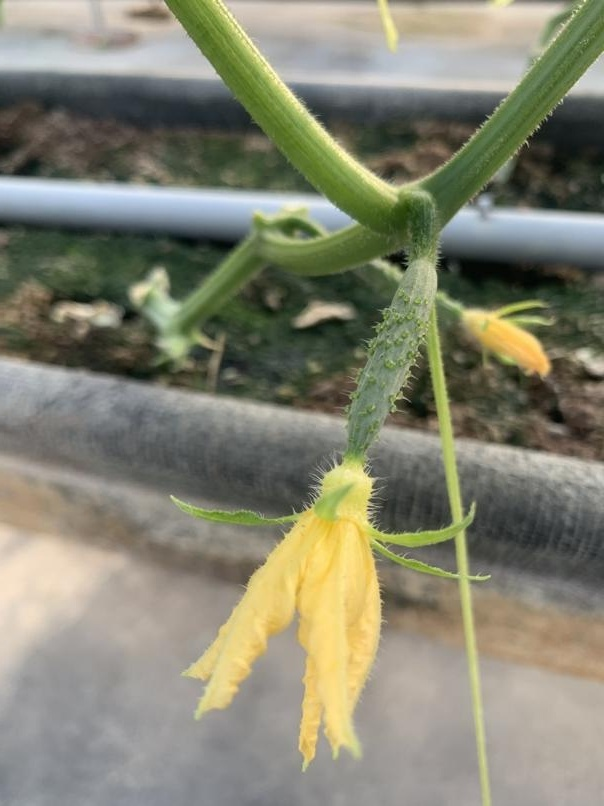bear: (165, 236, 491, 758)
